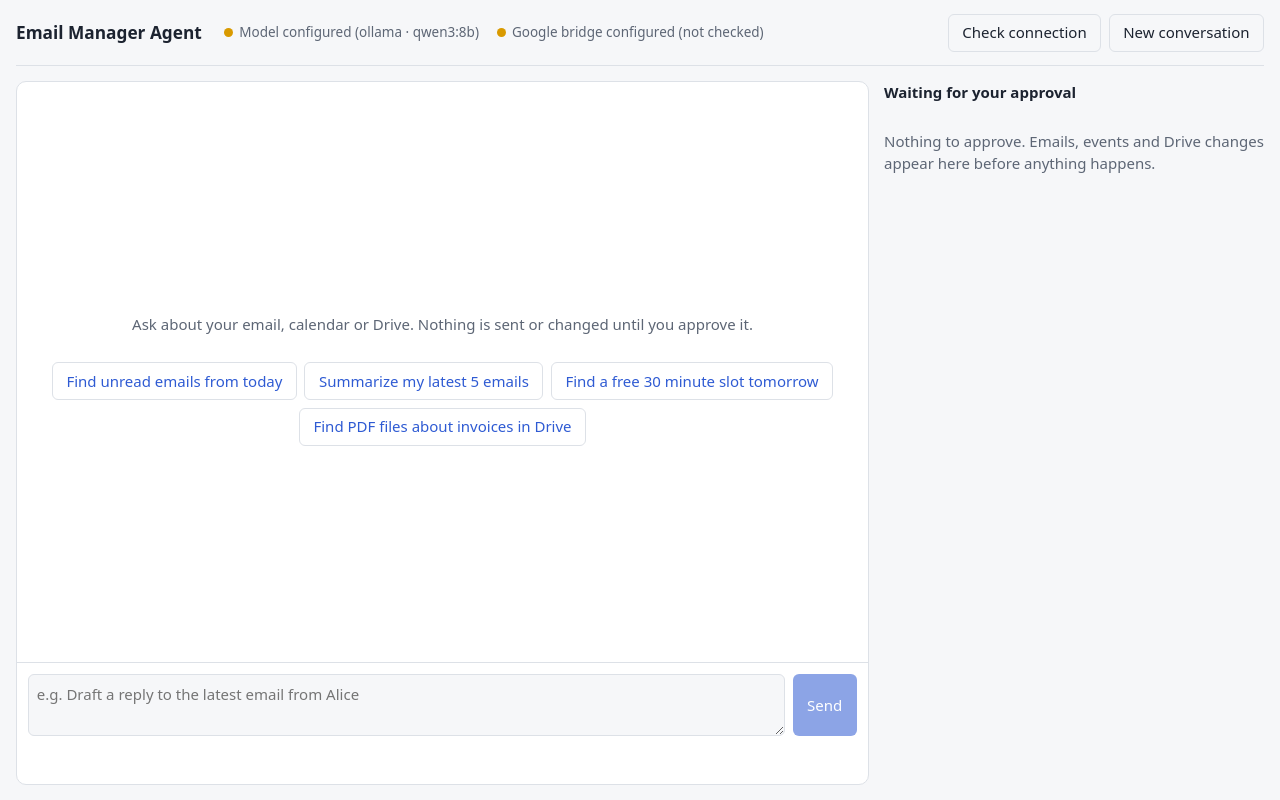
Test: approvals › rejects an operation
Type "email bob" into the text box named "Message" at (407, 705), box [28, 674, 785, 736]
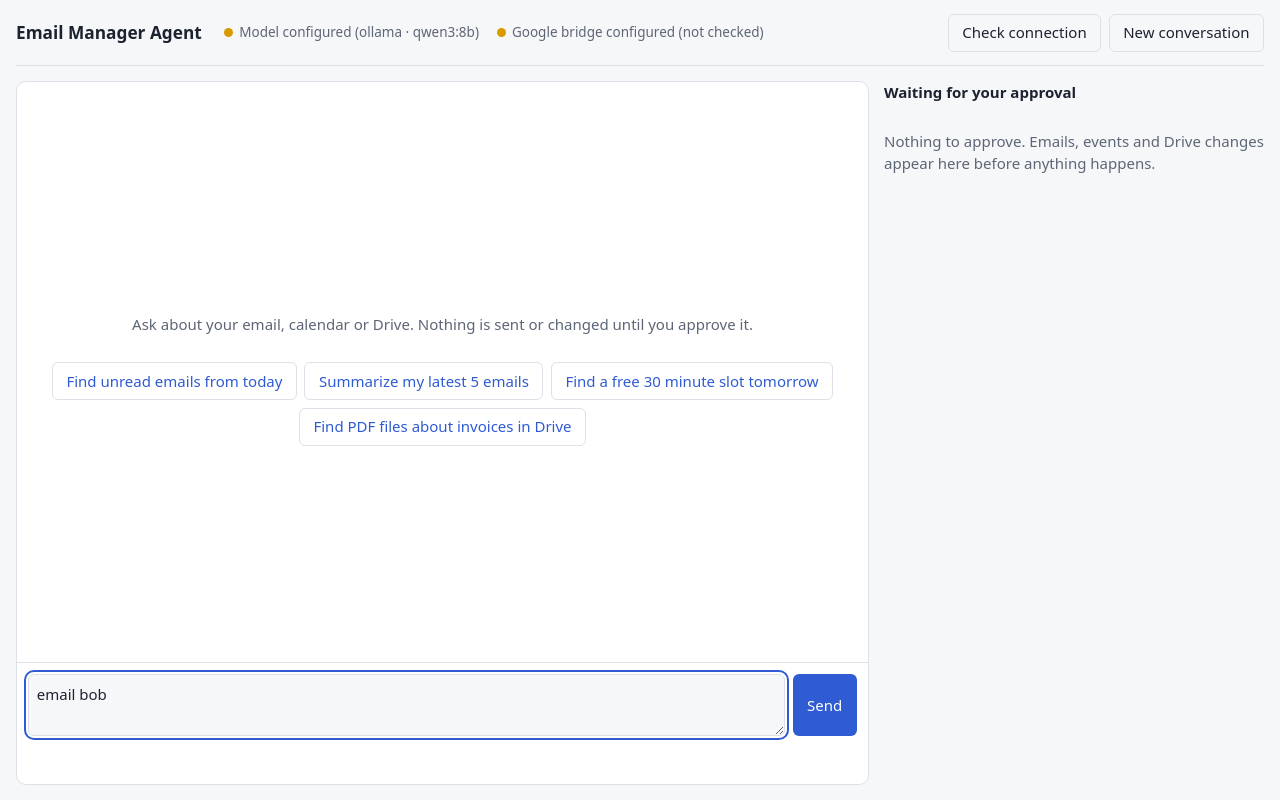
Click the button "Send" at (825, 705), box [792, 674, 857, 736]
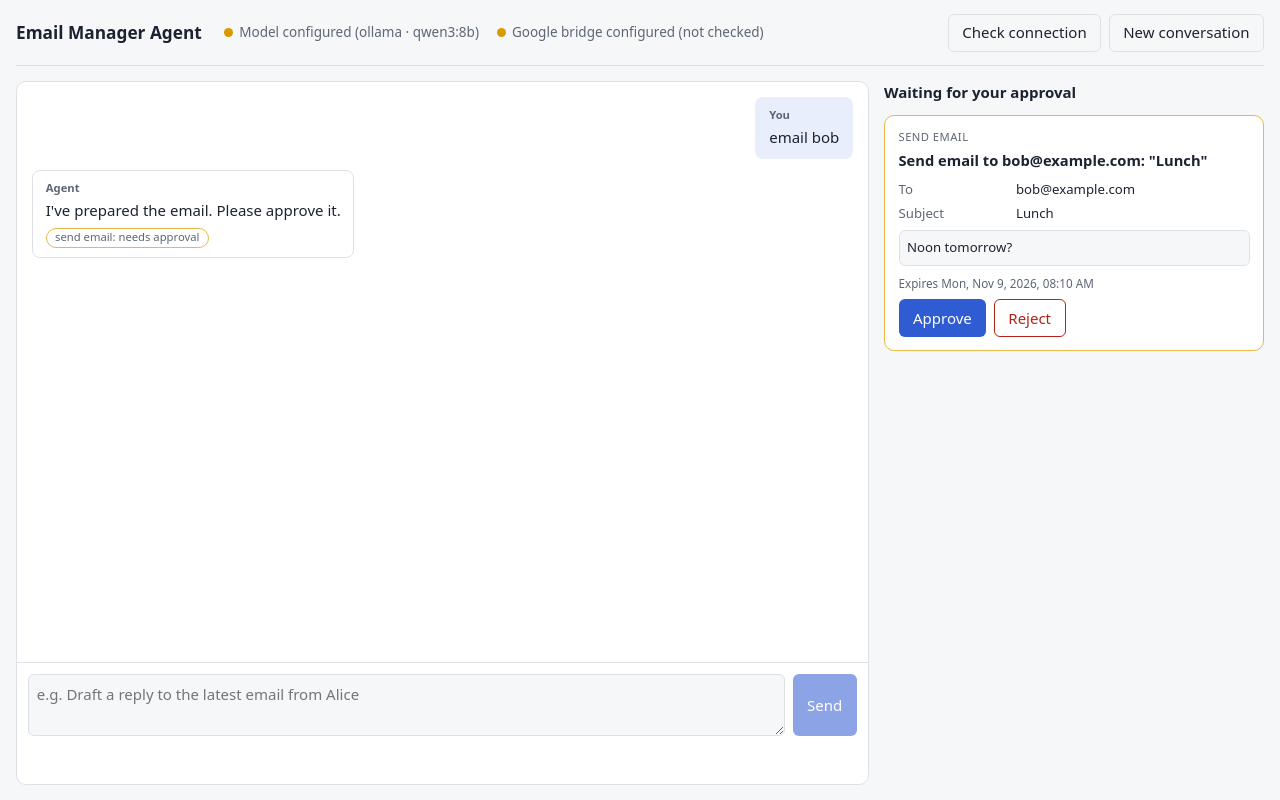
Click the button "Reject" at (1030, 318), box [994, 299, 1066, 337]
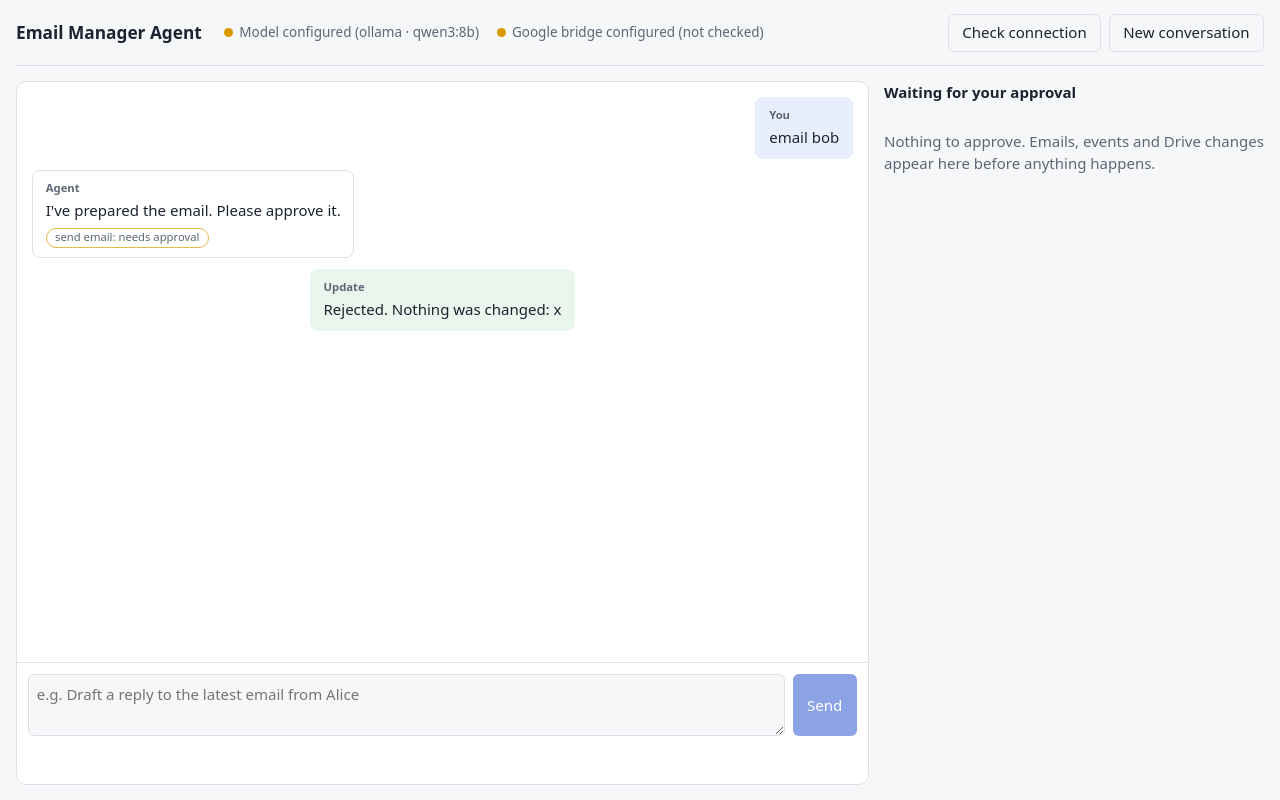
Expected: the text "Rejected. Nothing was changed: x" is shown, [324, 298, 562, 321]
